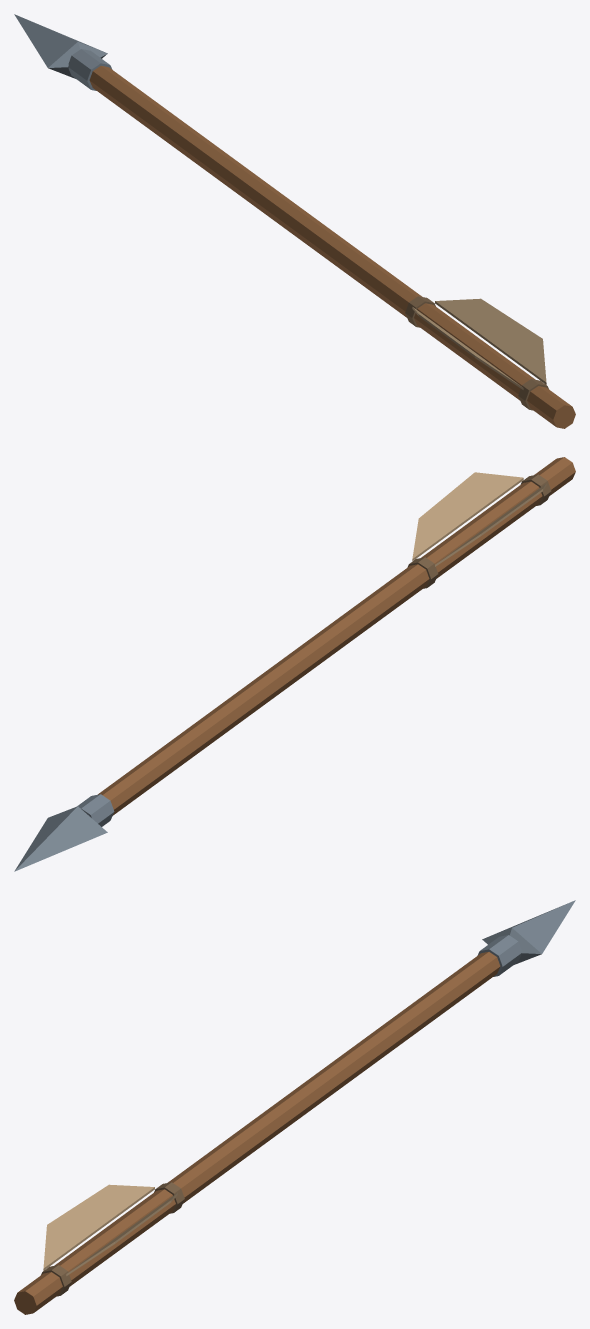
Rendered from Ballista_Bolt.glb.
3 renders of one model, top to bottom at view 1: azimuth 30°, elevation 25°; view 2: azimuth 150°, elevation 25°; view 3: azimuth 330°, elevation 25°, orthographic.
Parts seen in each view (by area): view 1: SM_Ballista_Bolt; view 2: SM_Ballista_Bolt; view 3: SM_Ballista_Bolt.
Boxes of the visible parts, x1,y1,x2,y2 form: SM_Ballista_Bolt: (14, 14, 575, 428); SM_Ballista_Bolt: (14, 457, 575, 871); SM_Ballista_Bolt: (14, 900, 575, 1314).
Size of the model in its own units: 0.12 by 0.081 by 1.68.
